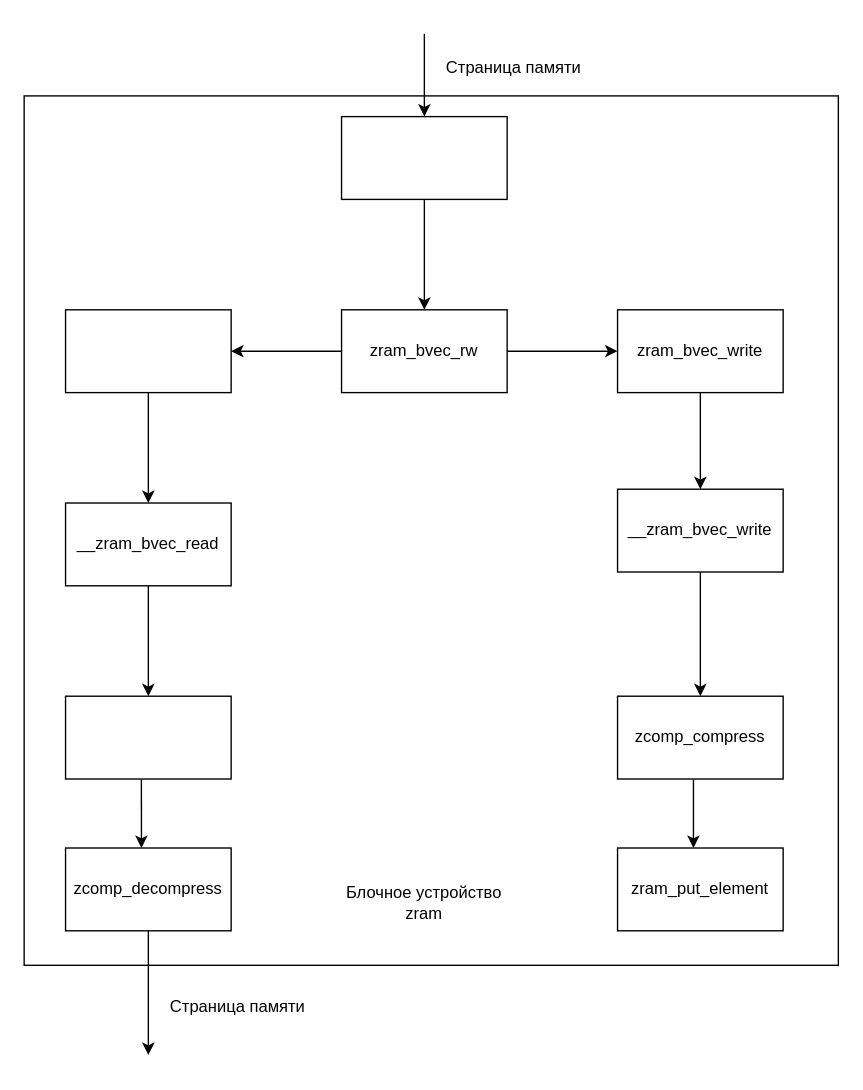
Image size: 863x1090. Some labels were removed from this diagram. Each missing label, with the box of its shape:
zram_bvec_read: (64, 308, 231, 393)
zram_get_element: (64, 695, 231, 779)
zram_rw_page: (340, 115, 507, 199)
